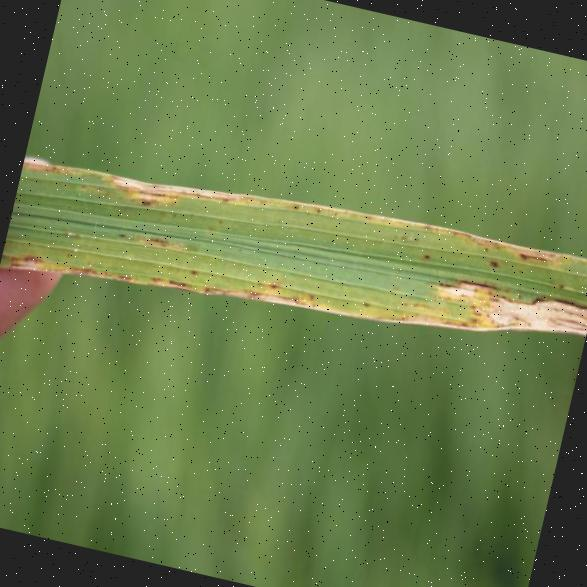Bacteria_Leaf_Blight: (8, 120, 587, 355)
